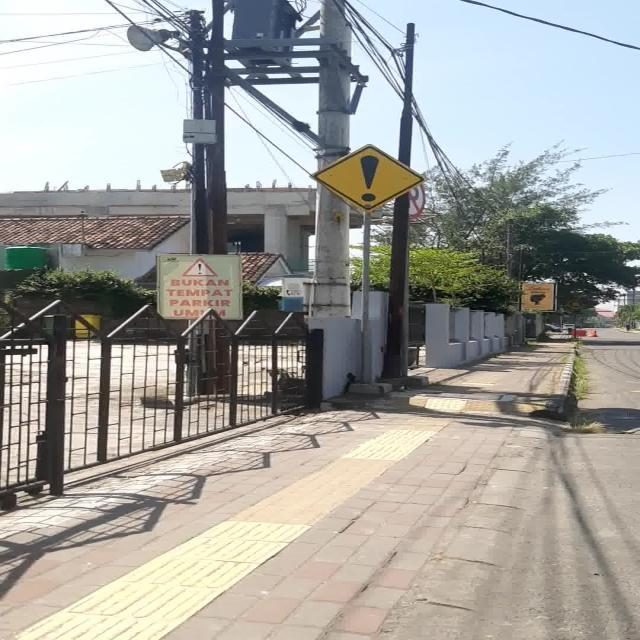Hati-Hati: (308, 143, 428, 213)
